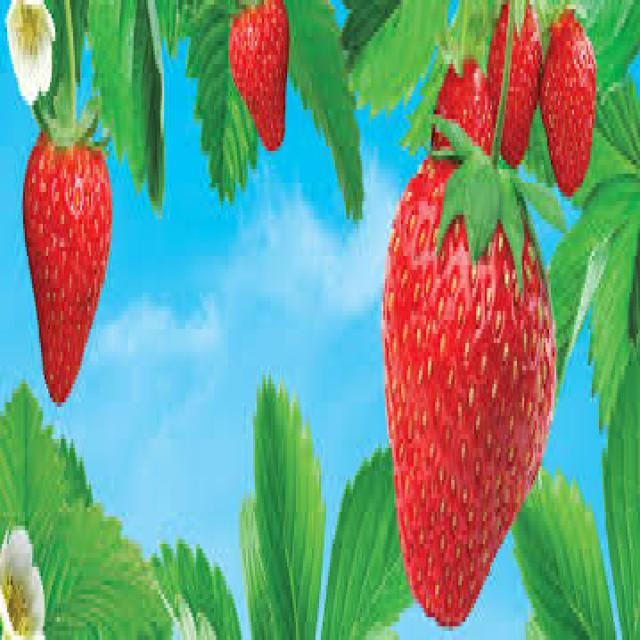strawberry: (376, 158, 556, 622), (25, 86, 120, 414), (540, 8, 616, 220), (220, 3, 294, 151), (486, 0, 544, 170)
